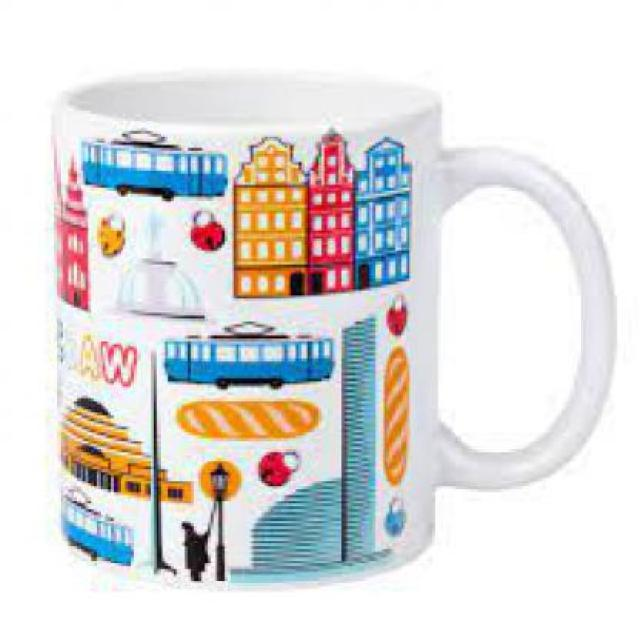cup: (37, 72, 623, 595)
